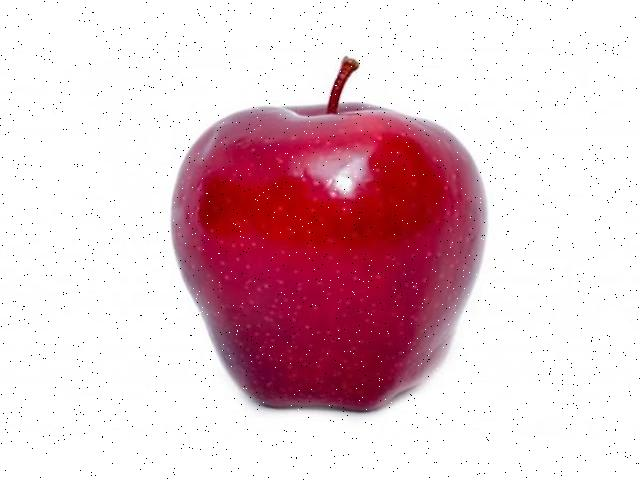apple: (166, 51, 493, 421)
